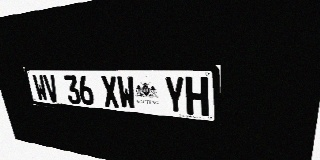3: (63, 75, 81, 104)
6: (76, 75, 95, 106)
H: (185, 77, 208, 116)
V: (43, 75, 60, 102)
W: (116, 76, 137, 110), (32, 75, 49, 101)
X: (100, 76, 120, 108)
Y: (163, 76, 186, 114)
